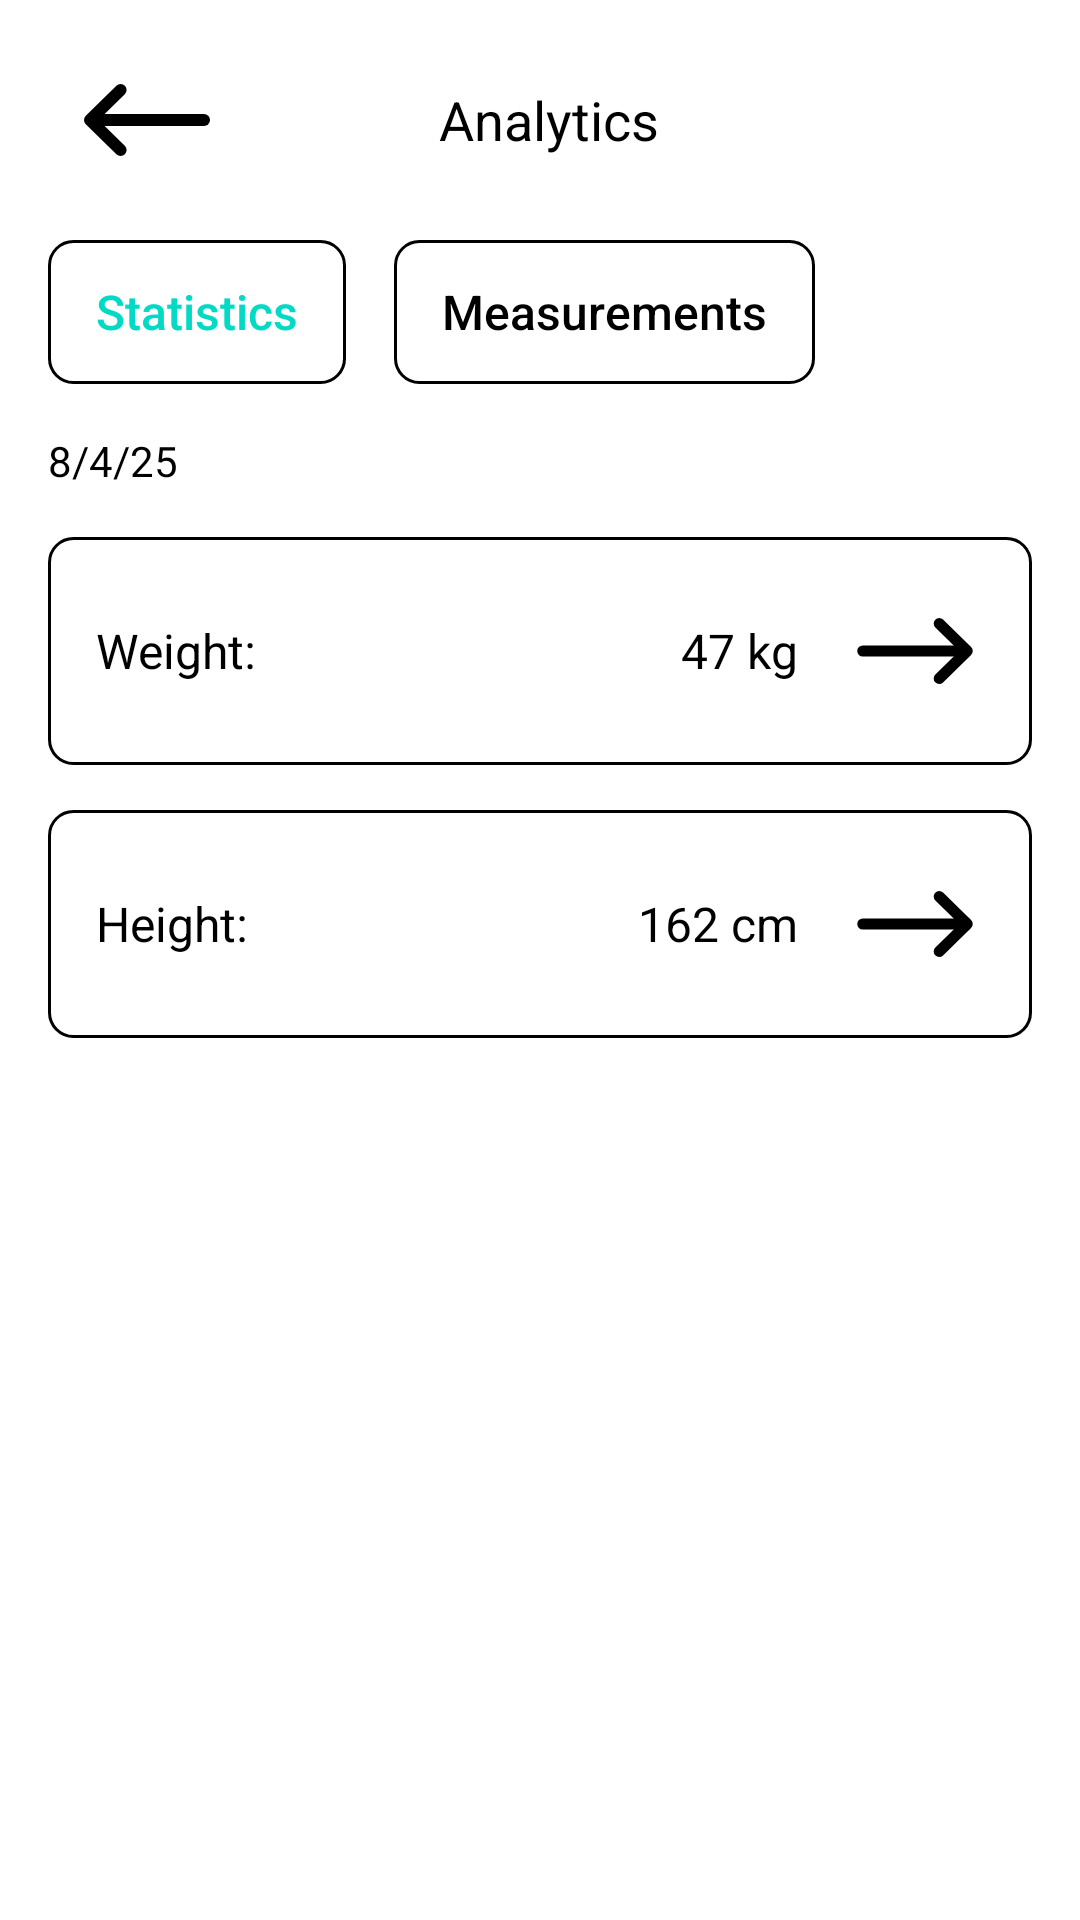

Screen size 1080w x 1920h. Icon name, then its center in pixels as point (x, y):
arror right: point (915, 651), point (915, 924)
arrow left: point (147, 120)
